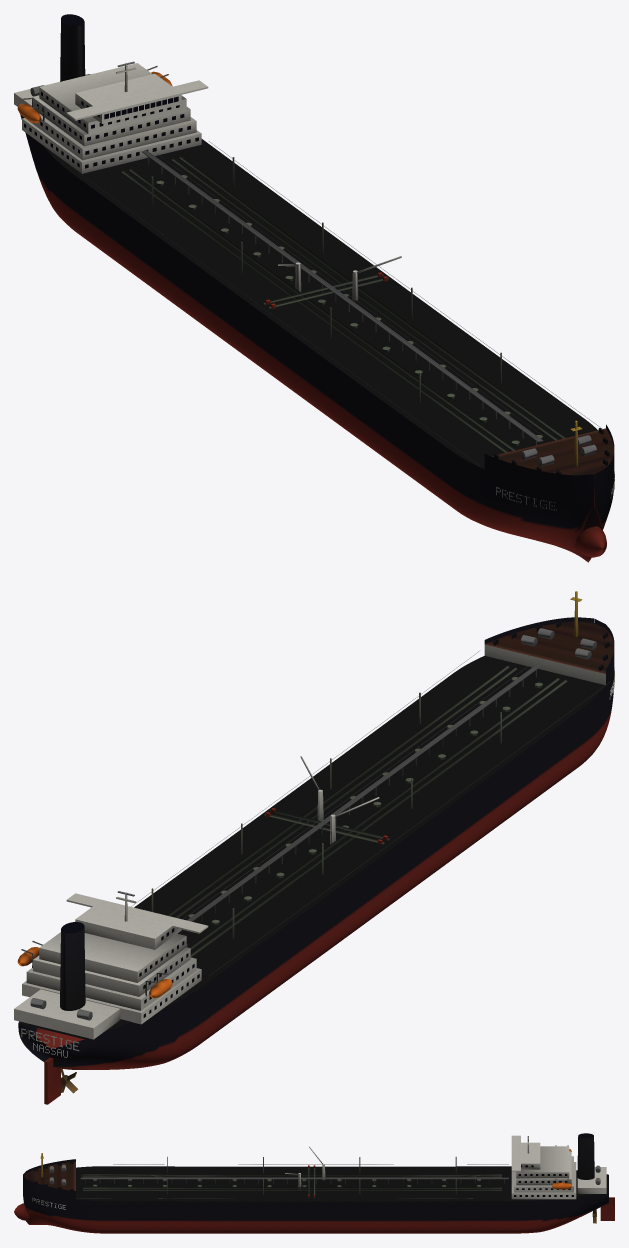
File: model_built.glb
The picture shows the model from 3 angles, top to bottom: view 1: azimuth 30°, elevation 25°; view 2: azimuth 150°, elevation 25°; view 3: azimuth 270°, elevation 25°; orthographic projection. The views are drawn at different scales.
Parts seen in each view (by area): view 1: main; view 2: main; view 3: main.
Boxes of the visible parts, x1,y1,x2,y2 form: main: [14, 14, 614, 562]; main: [14, 591, 614, 1104]; main: [14, 1133, 614, 1233].
Bounding box in the file's own units: 37 × 40.89 × 250.
Materials: 1 (1 with a texture image).
